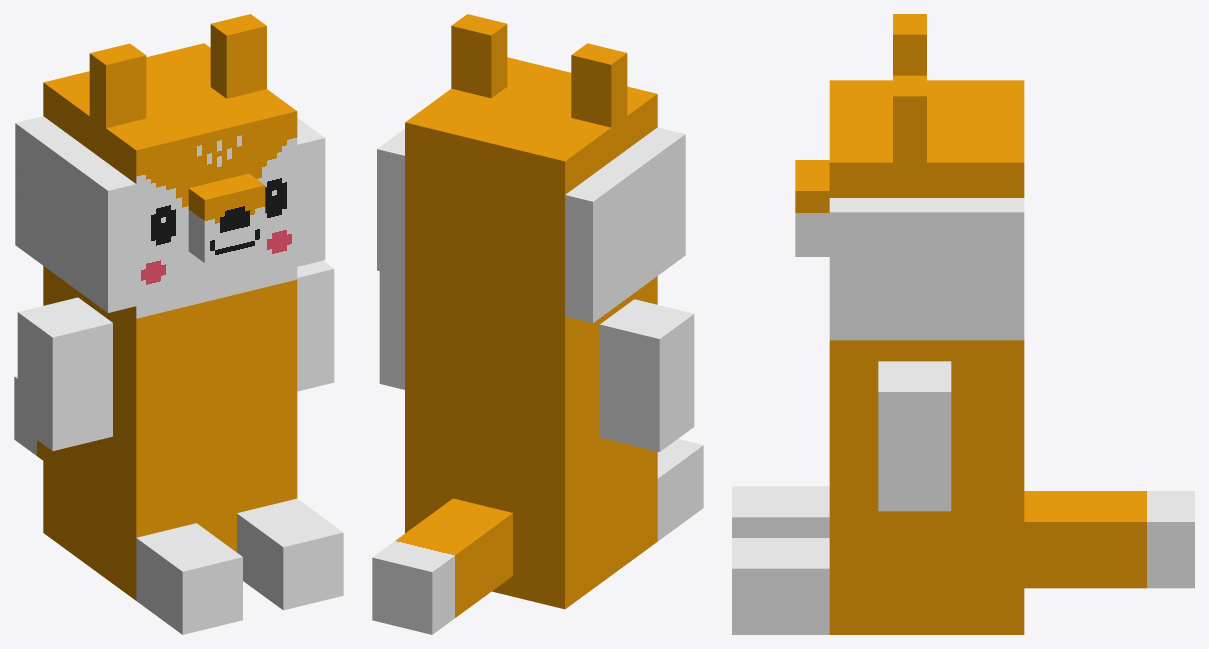
File: foxfox.gltf
The picture shows the model from 3 angles, left to right: view 1: azimuth 30°, elevation 25°; view 2: azimuth 150°, elevation 25°; view 3: azimuth 270°, elevation 25°; orthographic projection. The views are drawn at different scales.
Parts seen in each view (by area): view 1: head, bottom, chest, cheek (×2), right arm, right leg, left left, nose, left arm, right ear, left ear, tail; view 2: head, bottom, chest, cheek (×2), tail, right arm, right ear, left ear, right leg, left arm; view 3: bottom, cheek, head, tail, chest, left arm, left left, right leg, nose, left ear, right ear.
Boxes of the visible parts, <box> form: head: <box>43,43,297,318</box>; bottom: <box>43,393,297,600</box>; chest: <box>43,266,297,432</box>; cheek (×2): <box>15,116,325,312</box>; right arm: <box>17,297,112,451</box>; right leg: <box>136,523,242,634</box>; left left: <box>237,498,343,610</box>; nose: <box>188,173,265,262</box>; left arm: <box>297,260,334,391</box>; right ear: <box>89,43,146,128</box>; left ear: <box>210,14,266,98</box>; tail: <box>14,375,43,460</box>; head: <box>405,57,657,328</box>; bottom: <box>405,403,657,609</box>; chest: <box>405,276,657,441</box>; cheek (×2): <box>377,127,685,322</box>; tail: <box>372,498,512,634</box>; right arm: <box>599,299,694,451</box>; right ear: <box>571,43,627,127</box>; left ear: <box>451,14,507,98</box>; right leg: <box>657,439,703,541</box>; left arm: <box>379,271,404,389</box>; bottom: <box>829,458,1024,634</box>; cheek: <box>829,198,1024,340</box>; head: <box>829,80,1024,197</box>; tail: <box>1024,491,1194,588</box>; chest: <box>829,340,1024,458</box>; left arm: <box>878,361,951,511</box>; left left: <box>732,538,829,634</box>; right leg: <box>732,486,829,537</box>; nose: <box>795,160,829,256</box>; left ear: <box>893,75,926,162</box>; right ear: <box>893,14,926,75</box>.
Size of the model in its own units: 0.2188 by 0.3813 by 0.2969.
11 materials, 10 textured.
